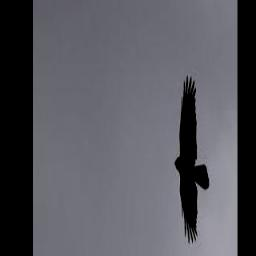Crow: (175, 75, 210, 244)
